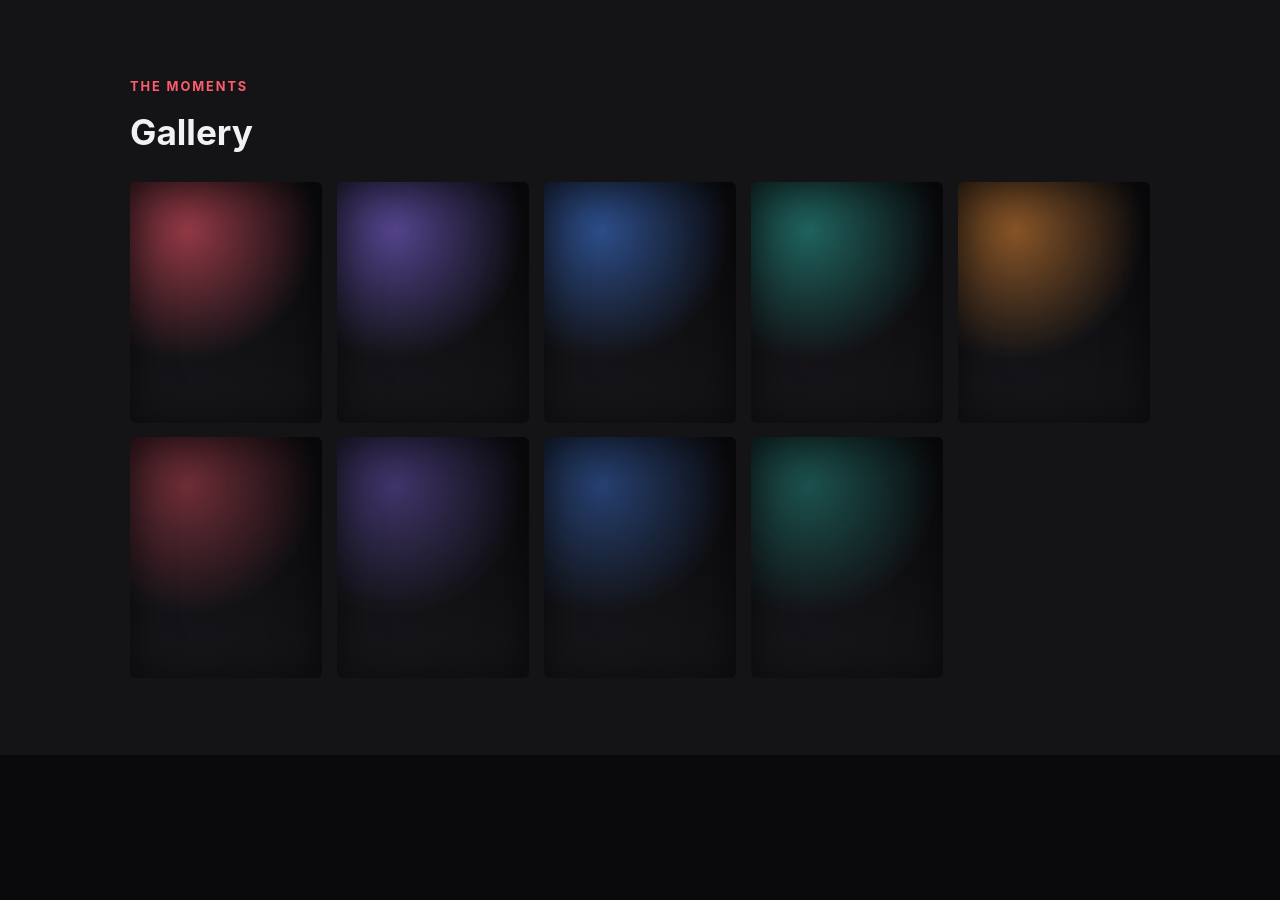
Scenario: Gallery and Lightbox › opens a gallery item and closes it with Escape
Click the 1st button named "Photo from a Ron Okavi event" at (226, 303), box [130, 182, 322, 423]
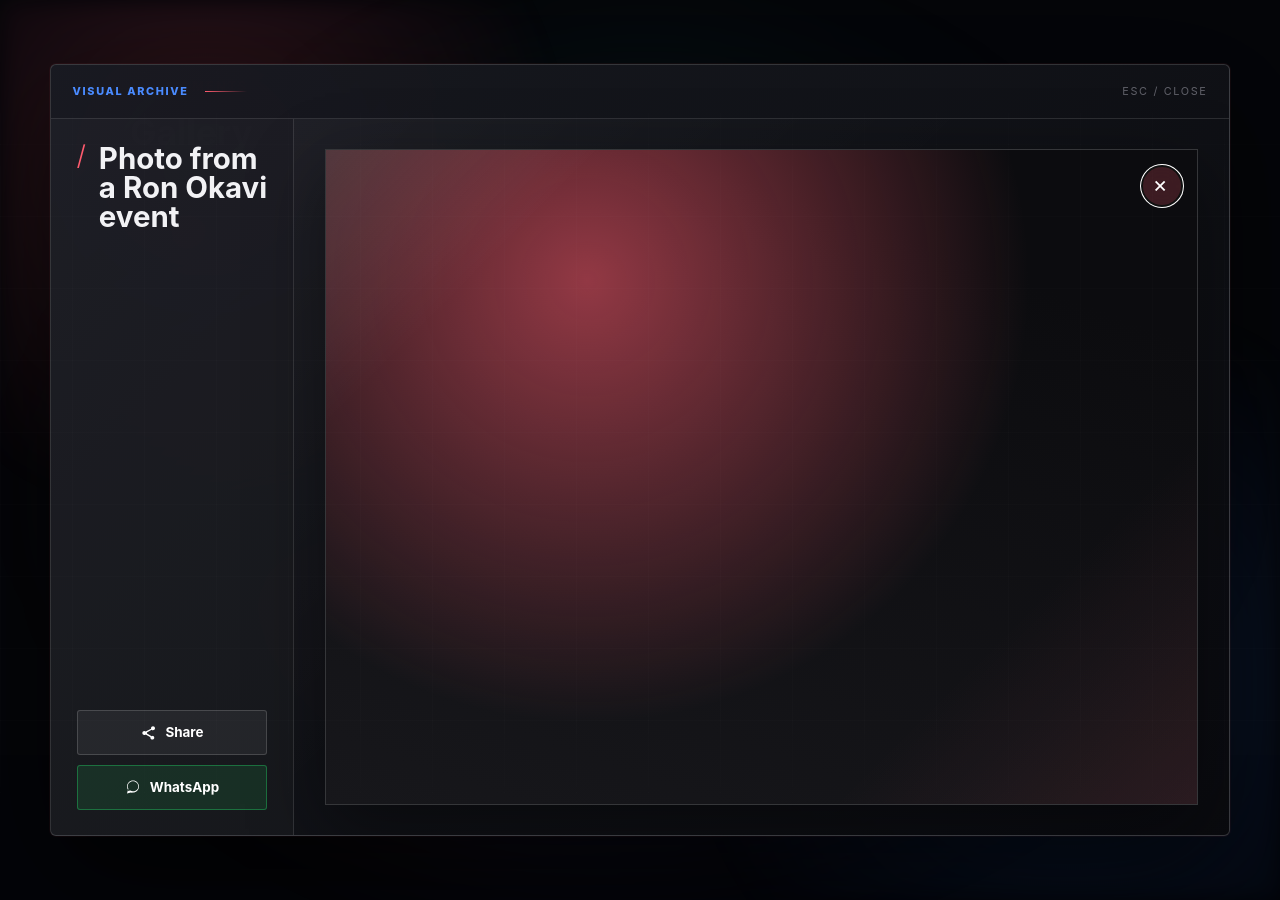
expect the dialog is shown: met
Press Escape
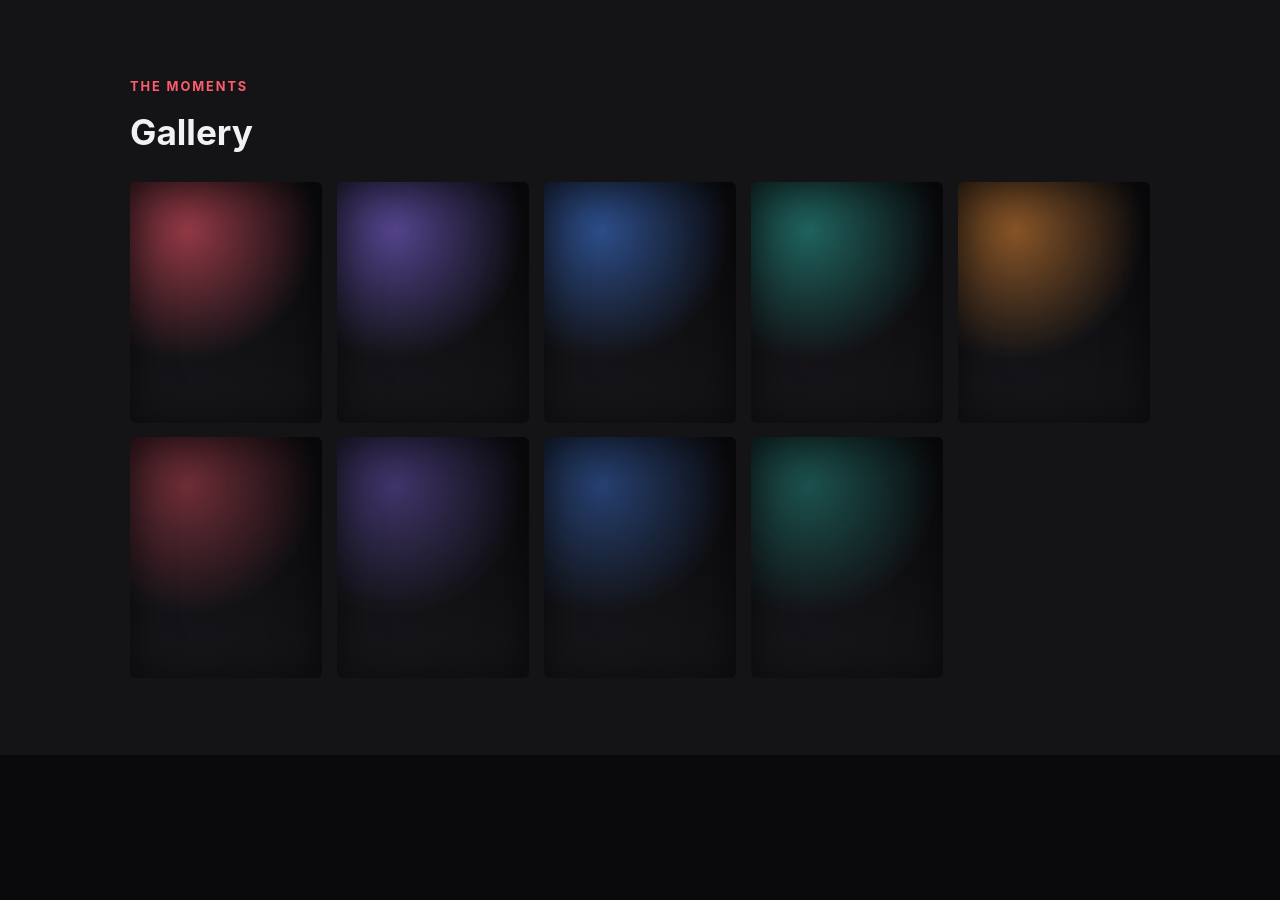
expect the dialog is gone: met
